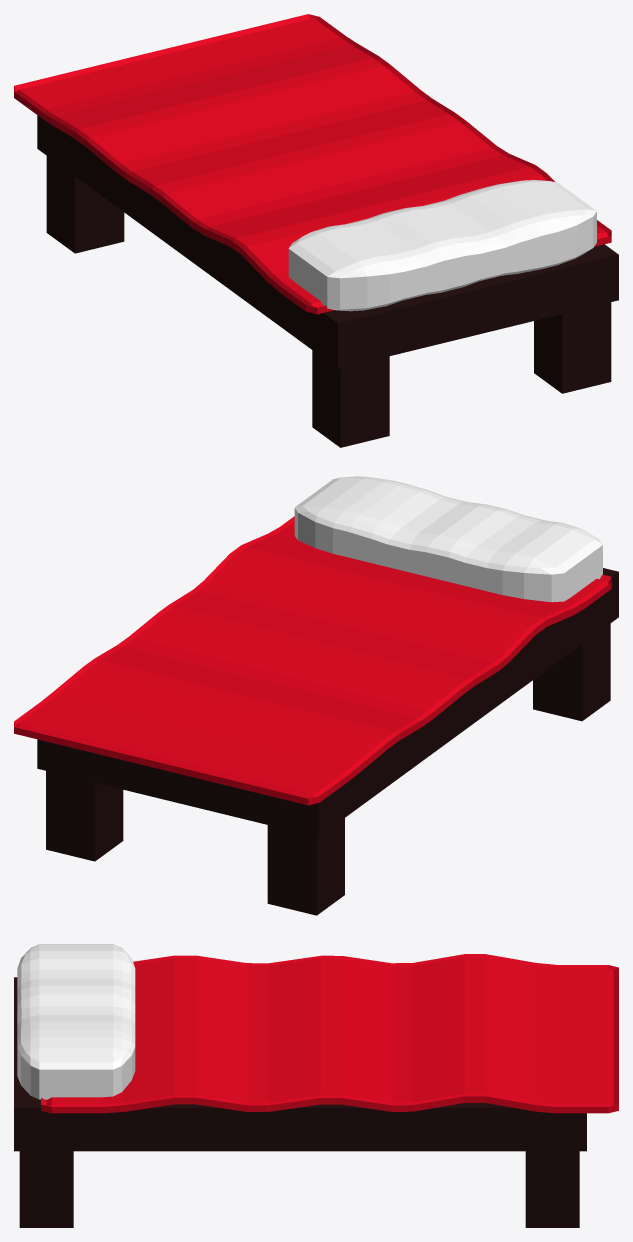
File: bed.fbx
The picture shows the model from 3 angles, top to bottom: view 1: azimuth 30°, elevation 25°; view 2: azimuth 150°, elevation 25°; view 3: azimuth 270°, elevation 25°; orthographic projection. The views are drawn at different scales.
Visible parts, largest first — view 1: Plane, Cube, Cube.001, Cube.003; view 2: Plane, Cube.001, Cube, Cube.003; view 3: Plane, Cube, Cube.001, Cube.003.
Part boxes in pixels (bbox=[...]): Plane: bbox=[14, 14, 611, 314]; Cube: bbox=[37, 115, 618, 368]; Cube.001: bbox=[288, 180, 596, 311]; Cube.003: bbox=[46, 156, 611, 447]; Plane: bbox=[14, 516, 611, 805]; Cube.001: bbox=[294, 476, 602, 602]; Cube: bbox=[37, 568, 618, 837]; Cube.003: bbox=[46, 623, 610, 915]; Plane: bbox=[41, 954, 618, 1113]; Cube: bbox=[14, 977, 586, 1151]; Cube.001: bbox=[17, 944, 135, 1099]; Cube.003: bbox=[19, 1151, 579, 1227].
Bounding box in the file's own units: 625 × 333 × 1105.
